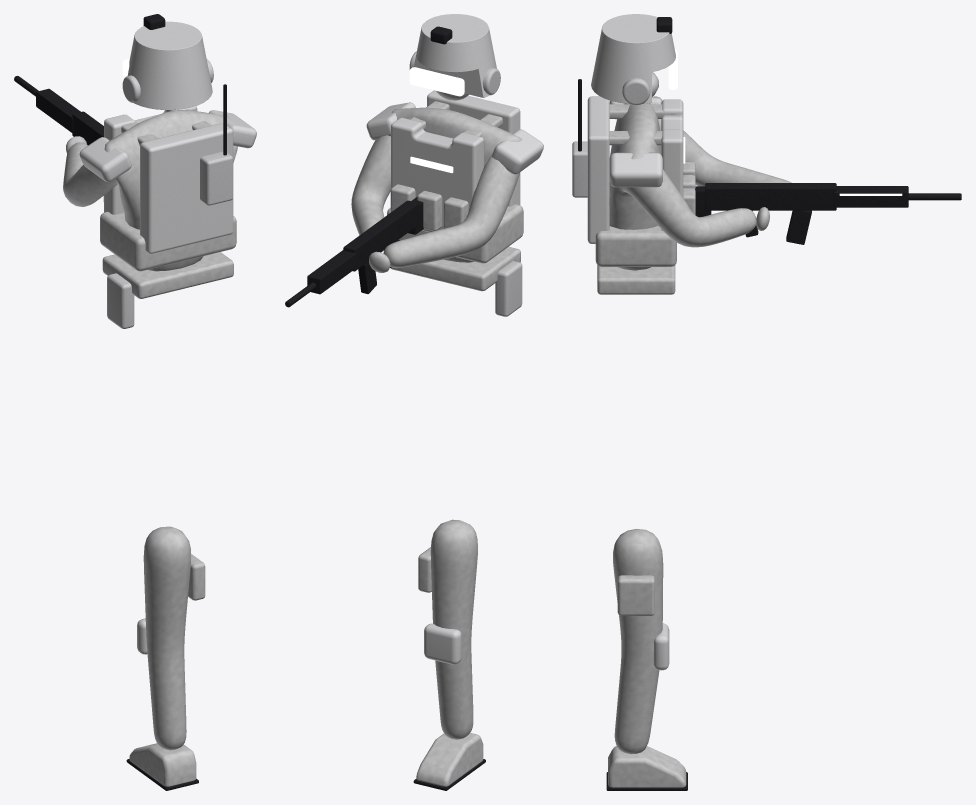
The model's file is agent.glb.
3 renders of one model, left to right at view 1: azimuth 30°, elevation 25°; view 2: azimuth 150°, elevation 25°; view 3: azimuth 270°, elevation 25°, orthographic.
Visible parts, largest first — view 1: agent_upper__q, agent_leg__q; view 2: agent_upper__q, agent_leg__q; view 3: agent_upper__q, agent_leg__q.
Part boxes in pixels (x1,y1,x2,y2): agent_upper__q: (14,14,256,328); agent_leg__q: (126,526,205,790); agent_upper__q: (285,14,543,316); agent_leg__q: (413,519,485,790); agent_upper__q: (572,14,961,294); agent_leg__q: (606,528,687,790).
Bounding box in the file's own units: 0.5857 × 2.69 × 1.25.
Materials: 8 (8 with a texture image).
